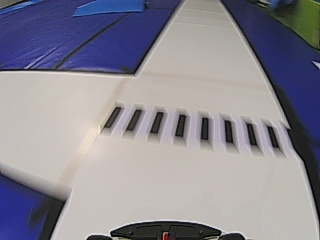CrossWalk: (99, 105, 280, 150)
